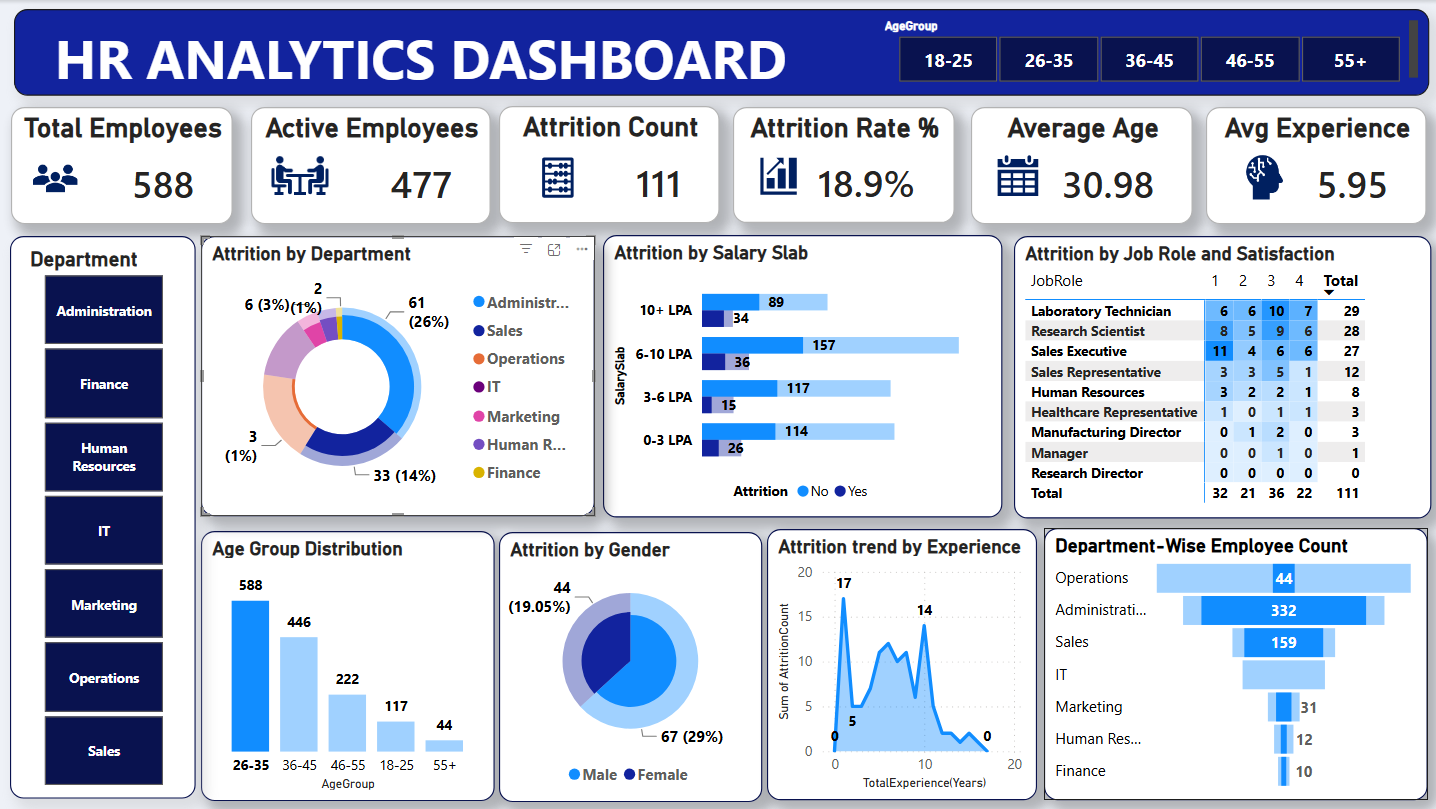

The dashboard page shown, as its layout file describes it:
{"tool":"powerbi","page":{"name":"HR DASHBOARD","canvas":[1280,720],"ordinal":0},"visuals":[{"type":"textbox","box":[12,7.9,1257.9,77.2],"z":0},{"type":"cardVisual","title":"Total Employees","fields":{"Data":["CountNonNull(HR_Analytics-4.EmpID)"]},"box":[10,95,197,104],"z":2000},{"type":"cardVisual","title":"Active Employees","fields":{"Data":["CountNonNull(HR_Analytics-4.EmployeeCount)"]},"box":[222.7,95.3,213,104.1],"z":3000},{"type":"cardVisual","title":"Attrition Count","fields":{"Data":["Sum(HR_Analytics-4.AttritionCount)"]},"box":[443.5,94.3,196.5,104.1],"z":4000},{"type":"cardVisual","title":"Attrition Rate %","fields":{"Data":["HR_Analytics-4.Attrition Rate %"]},"box":[651.2,95,196.9,102.9],"z":5000},{"type":"cardVisual","title":"Average Age","fields":{"Data":["Avg(HR_Analytics-4.Age)"]},"box":[862.7,95.3,197.4,104.1],"z":6000},{"type":"cardVisual","title":"Avg Experience","fields":{"Data":["Avg(HR_Analytics-4.YearsatCompany)"]},"box":[1071.9,95.3,196.5,104.1],"z":7000},{"type":"image","box":[18.5,136.2,60.3,44.7],"z":8000},{"type":"image","box":[669.2,126.4,44.7,61.3],"z":9000},{"type":"image","box":[234.4,112.8,64.2,85.6],"z":10000},{"type":"image","box":[1087.4,134.2,73.9,46.7],"z":11000},{"type":"image","box":[457.1,137.1,78.8,41.8],"z":12000},{"type":"image","box":[861.8,130.3,87.5,50.6],"z":13000},{"type":"donutChart","title":"Attrition by Department","fields":{"Category":["HR_Analytics-4.Department"],"Y":["Sum(HR_Analytics-4.AttritionCount)"]},"box":[179,210,350,249],"z":14000},{"type":"clusteredBarChart","title":"Attrition by Salary Slab","fields":{"Category":["HR_Analytics-4.SalarySlab"],"Series":["HR_Analytics-4.Attrition"],"Y":["CountNonNull(HR_Analytics-4.EmpID)"]},"box":[536.4,208.8,355.3,251.4],"z":15000},{"type":"pivotTable","title":"Attrition by Job Role and Satisfaction","fields":{"Columns":["HR_Analytics-4.JobSatisfaction"],"Rows":["HR_Analytics-4.JobRole"],"Values":["Sum(HR_Analytics-4.AttritionCount)"]},"box":[901.6,210.1,371,251],"z":16000},{"type":"columnChart","title":"Age Group Distribution","fields":{"Category":["HR_Analytics-4.AgeGroup"],"Y":["Sum(HR_Analytics-4.EmployeeCount)"]},"box":[179.1,472.2,261.3,240.1],"z":17000},{"type":"pieChart","title":"Attrition by Gender","fields":{"Category":["HR_Analytics-4.Gender"],"Y":["Sum(HR_Analytics-4.AttritionCount)"]},"box":[443.4,473.1,233.6,239.5],"z":18000},{"type":"areaChart","title":"Attrition trend by Experience","fields":{"Category":["HR_Analytics-4.TotalExperience(Years)"],"Y":["Sum(HR_Analytics-4.AttritionCount)"]},"box":[681.9,470.1,239.5,241.5],"z":19000},{"type":"funnel","title":"Department-Wise Employee Count","fields":{"Category":["HR_Analytics-4.Department"],"Y":["CountNonNull(HR_Analytics-4.EmpID)"]},"box":[928,469,341,242],"z":20000},{"type":"slicer","fields":{"Values":["HR_Analytics-4.Department"]},"box":[9,209.6,165,500],"z":21000},{"type":"slicer","fields":{"Values":["HR_Analytics-4.AgeGroup"]},"box":[773.3,11.7,495.1,68.1],"z":22000}]}

Visuals, with their boxes in screenshot pixels (x1, y1, x2, y2), scaled from the page's 1280x720 canvas onto the 1436x809 screenshot:
textbox: 13/9/1425/96
"Total Employees" cardVisual: 11/107/232/224
"Active Employees" cardVisual: 250/107/489/224
"Attrition Count" cardVisual: 498/106/718/223
"Attrition Rate %" cardVisual: 731/107/951/222
"Average Age" cardVisual: 968/107/1189/224
"Avg Experience" cardVisual: 1203/107/1423/224
image: 21/153/88/203
image: 751/142/801/211
image: 263/127/335/223
image: 1220/151/1303/203
image: 513/154/601/201
image: 967/146/1065/203
"Attrition by Department" donutChart: 201/236/593/516
"Attrition by Salary Slab" clusteredBarChart: 602/235/1000/517
"Attrition by Job Role and Satisfaction" pivotTable: 1011/236/1428/518
"Age Group Distribution" columnChart: 201/531/494/800
"Attrition by Gender" pieChart: 497/532/760/801
"Attrition trend by Experience" areaChart: 765/528/1034/800
"Department-Wise Employee Count" funnel: 1041/527/1424/799
slicer - HR_Analytics-4.Department: 10/236/195/797
slicer - HR_Analytics-4.AgeGroup: 868/13/1423/90
